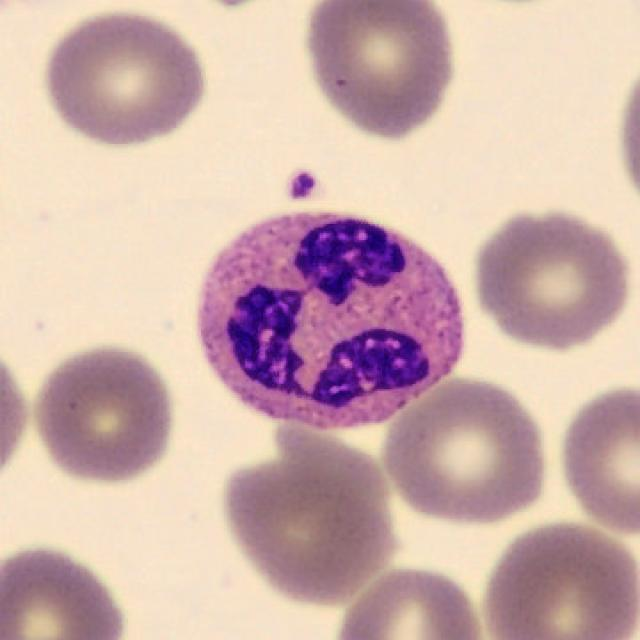Neutrofilo segmentado: (197, 212, 464, 432)
